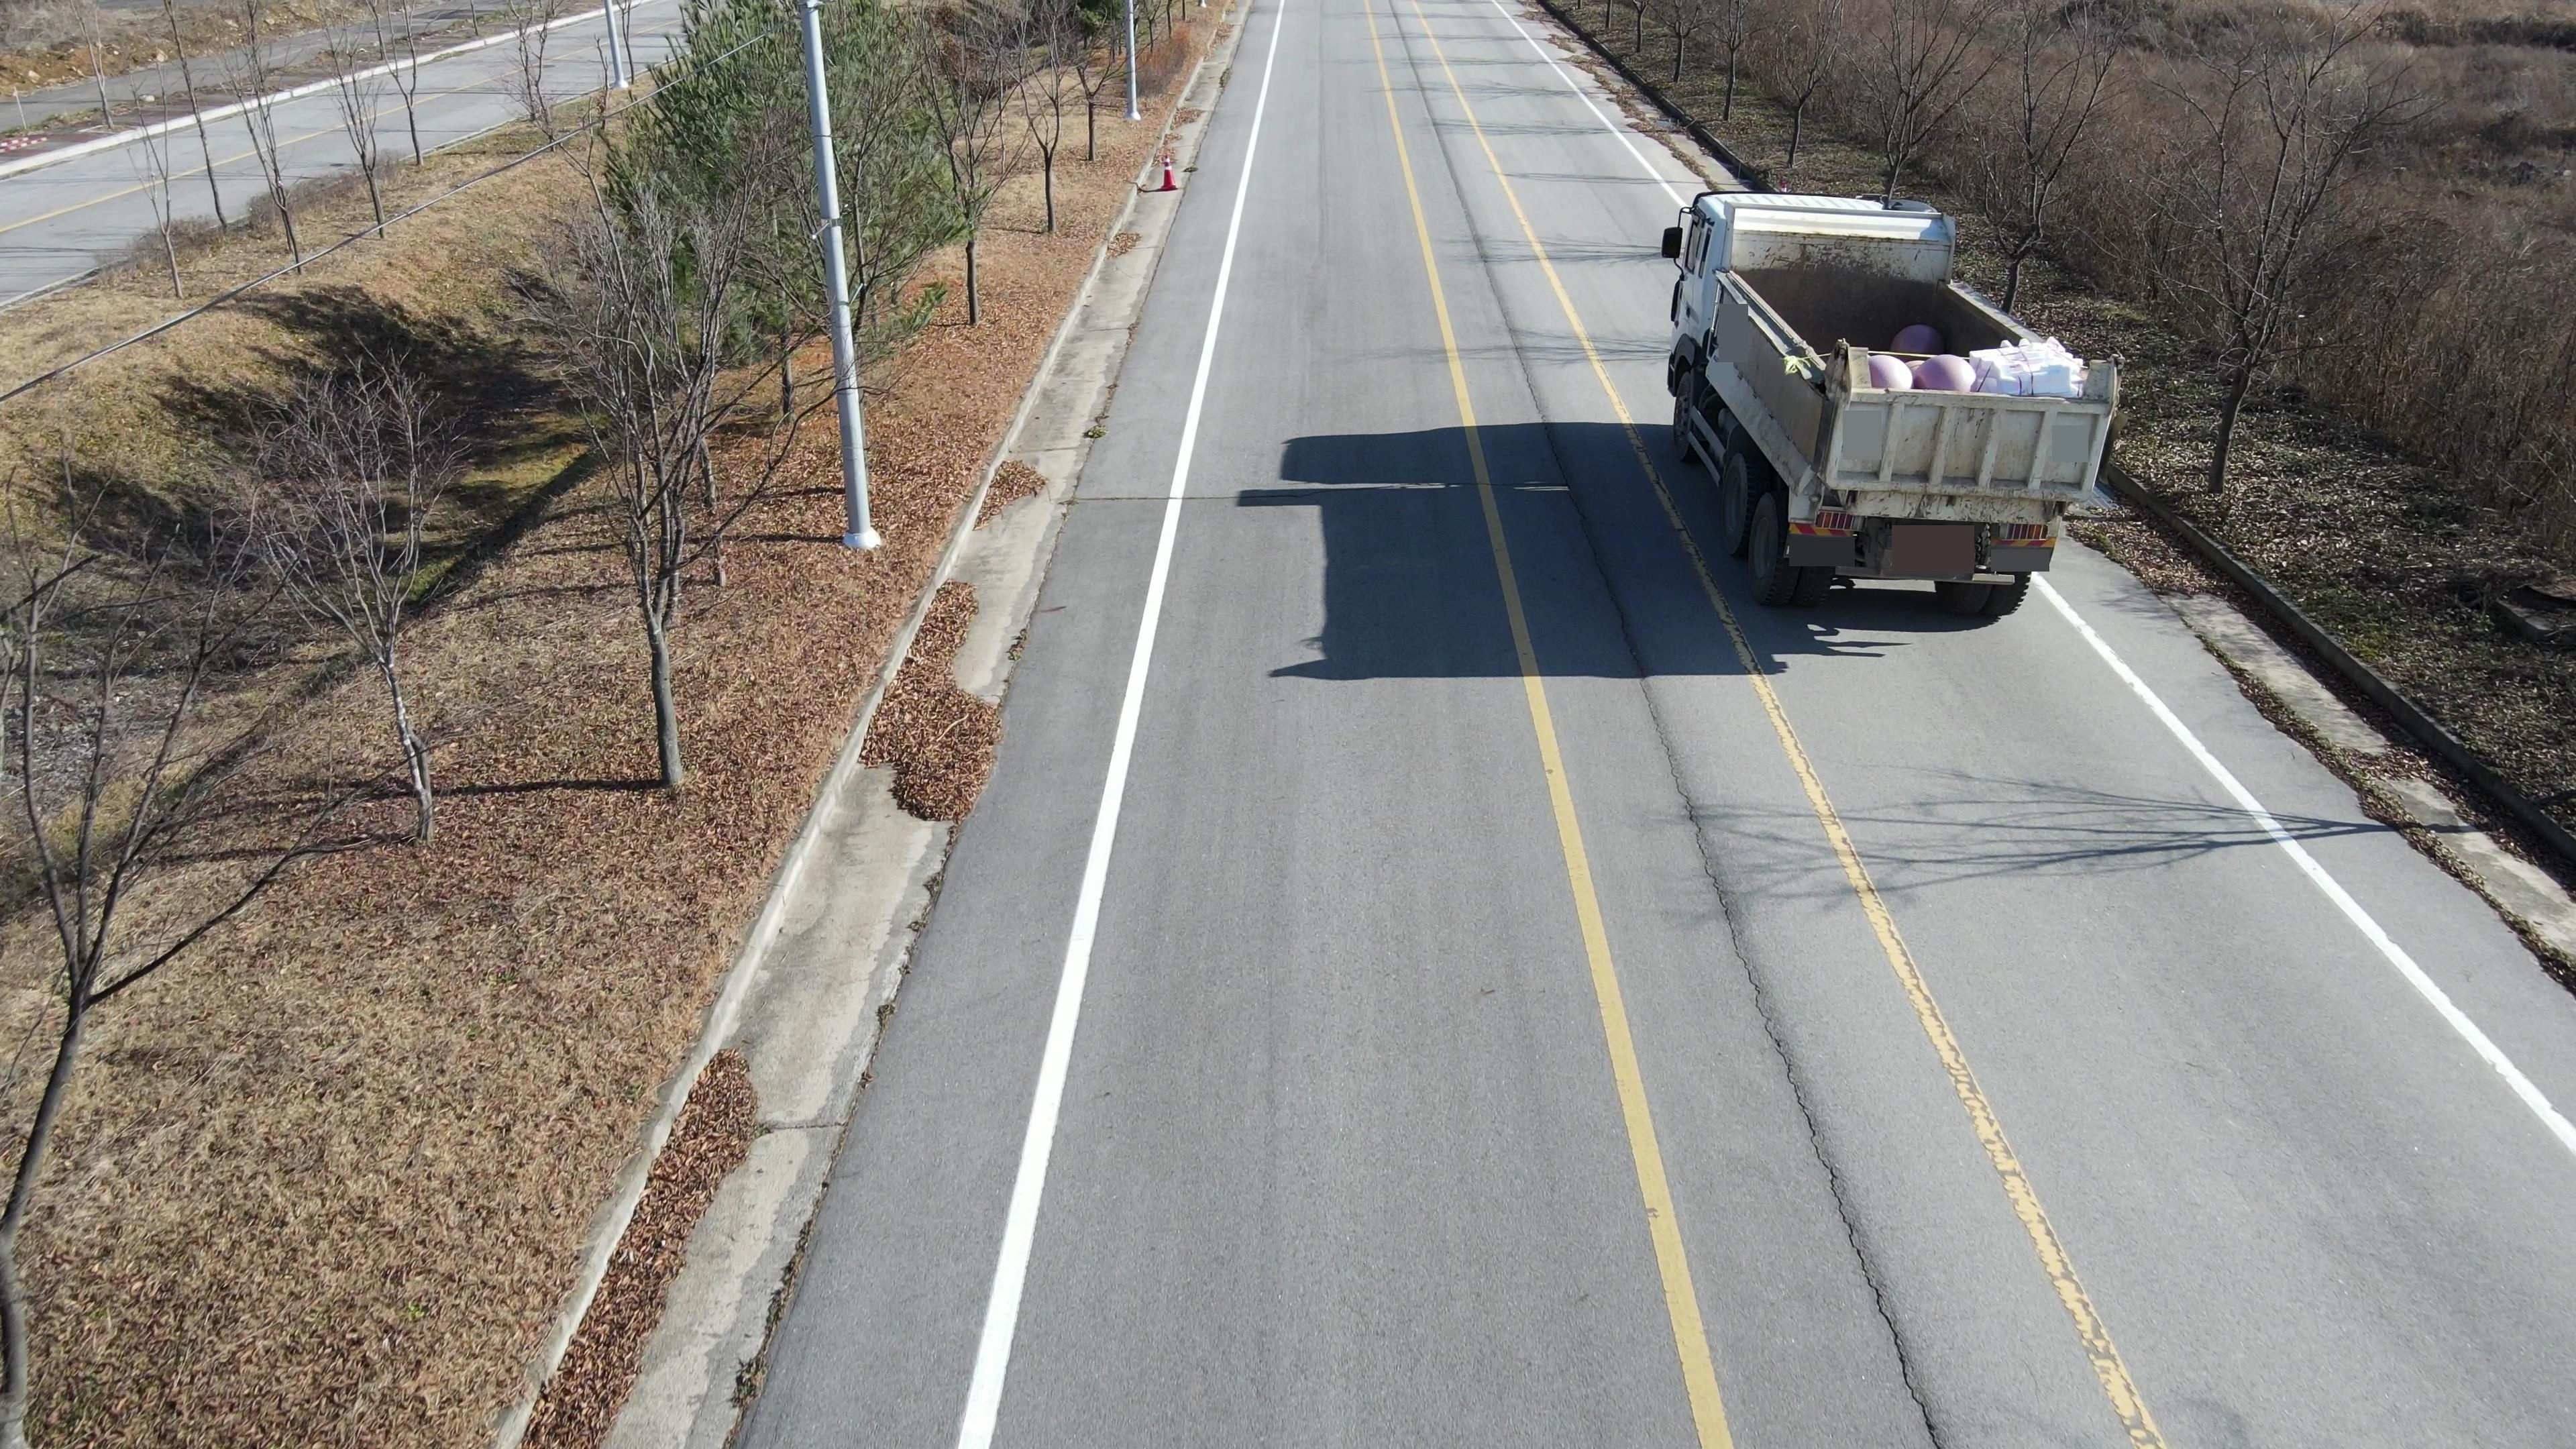불법차량: (1661, 191, 2125, 614)
